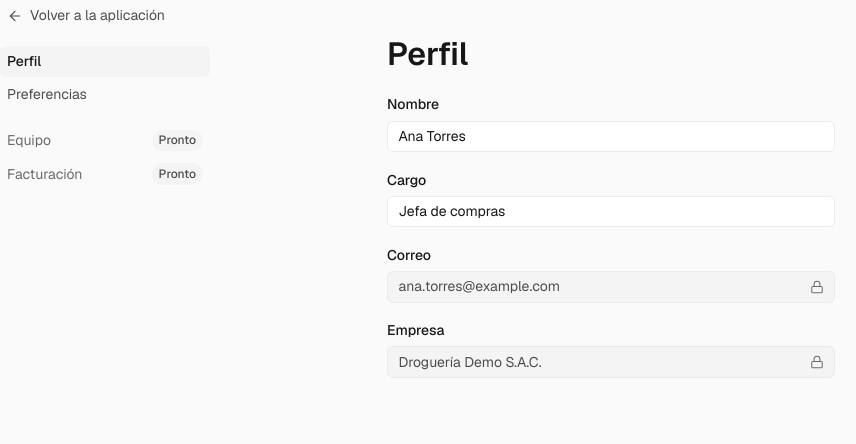
profile (settings) › discards edits
Type " María" into the field labelled "Nombre" at [611, 136], box left=398, top=126, right=824, bottom=147
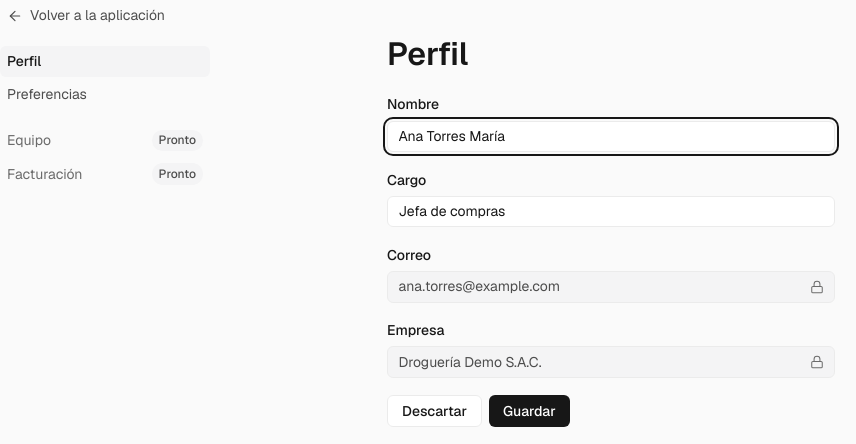
Click the button "Descartar" at [434, 411], box left=387, top=395, right=482, bottom=427
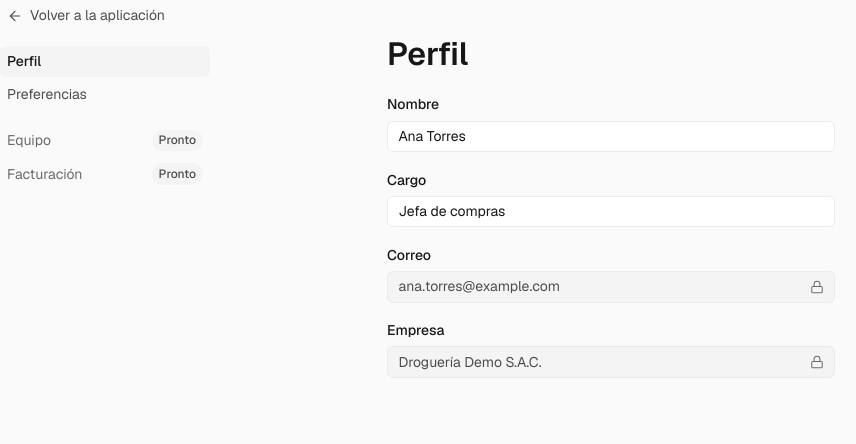
Check: the field labelled "Nombre" holds "Ana Torres", box left=398, top=126, right=824, bottom=147
Check: the button "Guardar" is gone
